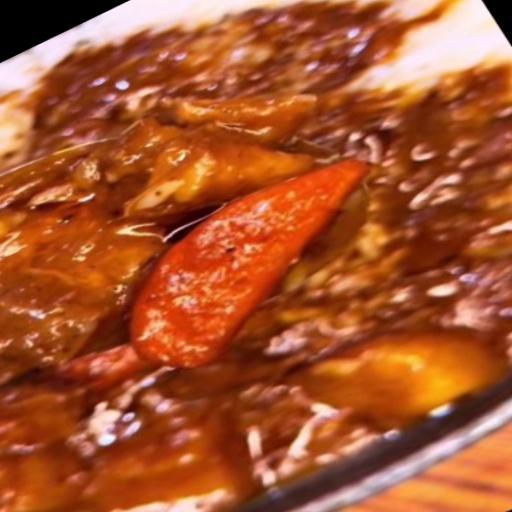pork caldereta: (0, 95, 498, 511)
